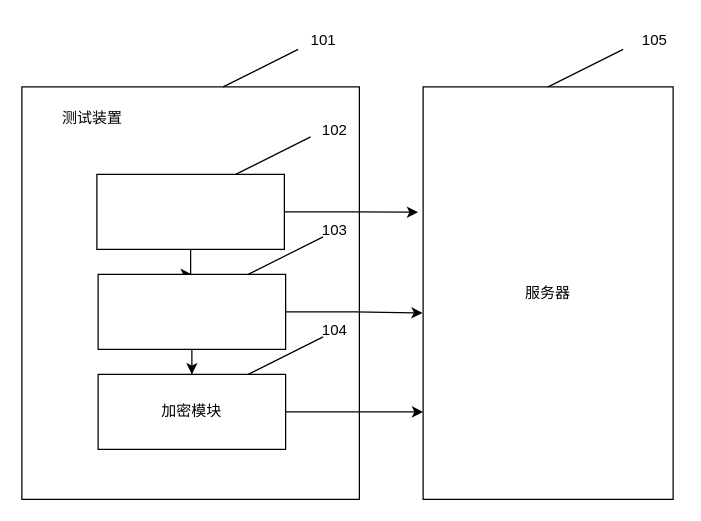
This 701x521 diagram has some shape labels left out. The box of each missing label's shape, as (x1, y1, x2, y2) in pixels:
LSTM模块: (97, 273, 286, 349)
UI及API序列获取模块: (96, 173, 284, 249)
